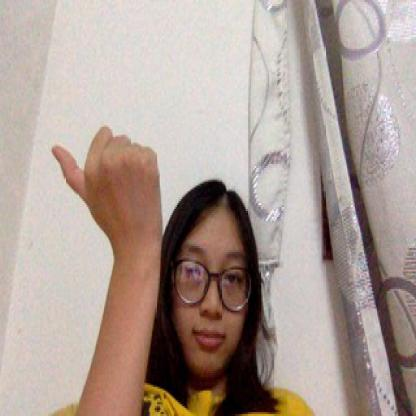right: (51, 123, 165, 252)
